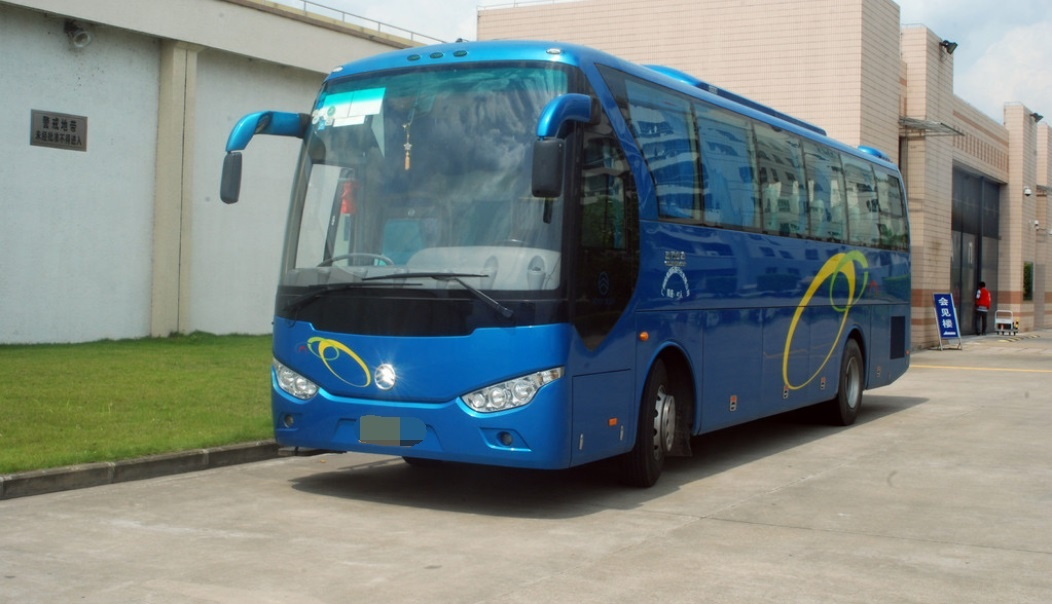bus: (197, 26, 934, 506)
